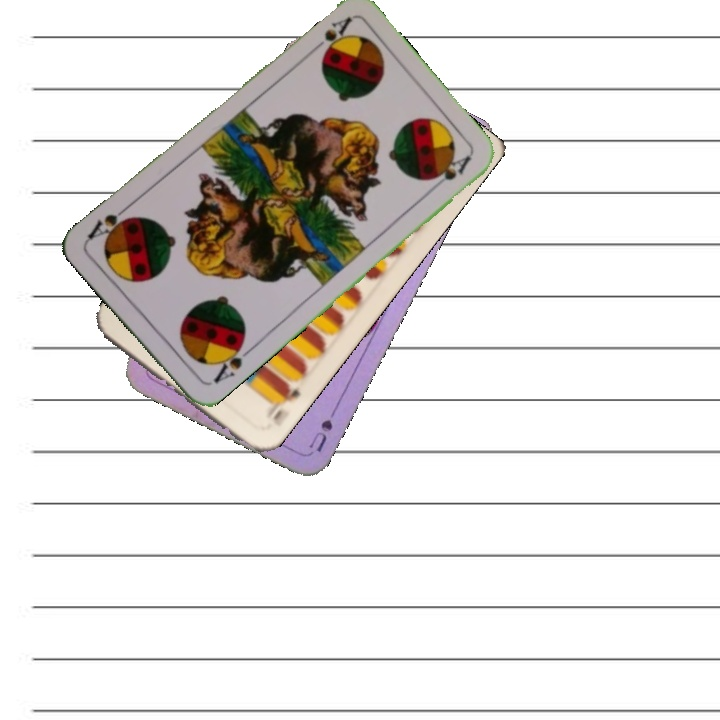E10: (262, 379, 304, 422)
SA: (208, 336, 254, 386), (305, 13, 355, 59)
SU: (305, 399, 340, 455)
